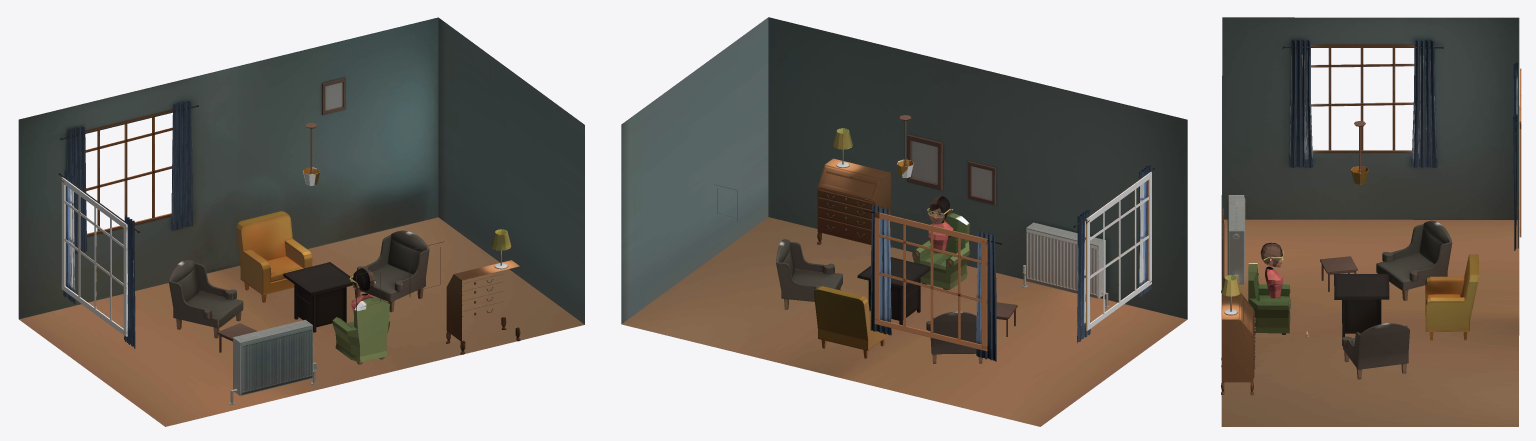
The model's file is user-joined.glb.
3 renders of one model, left to right at view 1: azimuth 30°, elevation 25°; view 2: azimuth 150°, elevation 25°; view 3: azimuth 270°, elevation 25°, orthographic.
Parts seen in each view (by area): view 1: murs, sol, Radiator, armchair, petit fauteuil bas, petit fauteuil bas.001, Table haute, window1, fauteuil vert.001, rideaux_d.001, window2, commode (+5 smaller); view 2: murs, sol, commode, window2, Radiator, armchair, window1, petit fauteuil bas.001, fauteuil vert.001, rideaux_g.001, rideaux_d.001, Table haute (+6 smaller); view 3: sol, murs, petit fauteuil bas, armchair, rideaux_d, commode, rideaux_g, Table haute, petit fauteuil bas.001, window1, fauteuil vert.001, Radiator (+6 smaller).
Boxes of the visible parts, x1=… form: murs: x1=18, y1=17, x2=584, y2=324; sol: x1=19, y1=217, x2=584, y2=426; Radiator: x1=229, y1=319, x2=316, y2=404; armchair: x1=236, y1=211, x2=312, y2=302; petit fauteuil bas: x1=169, y1=259, x2=243, y2=338; petit fauteuil bas.001: x1=353, y1=230, x2=429, y2=312; Table haute: x1=283, y1=262, x2=352, y2=332; window1: x1=61, y1=177, x2=127, y2=336; fauteuil vert.001: x1=332, y1=297, x2=389, y2=364; rideaux_d.001: x1=171, y1=101, x2=192, y2=230; window2: x1=85, y1=109, x2=172, y2=236; commode: x1=446, y1=260, x2=520, y2=354; murs: x1=621, y1=17, x2=1187, y2=323; sol: x1=621, y1=217, x2=1187, y2=426; commode: x1=817, y1=158, x2=891, y2=247; window2: x1=874, y1=211, x2=987, y2=351; Radiator: x1=1022, y1=222, x2=1109, y2=307; armchair: x1=814, y1=286, x2=888, y2=358; window1: x1=1086, y1=172, x2=1151, y2=330; petit fauteuil bas.001: x1=776, y1=239, x2=842, y2=309; fauteuil vert.001: x1=912, y1=213, x2=969, y2=290; rideaux_g.001: x1=976, y1=230, x2=996, y2=361; rideaux_d.001: x1=870, y1=205, x2=891, y2=335; Table haute: x1=857, y1=257, x2=930, y2=325; sol: x1=1221, y1=219, x2=1519, y2=426; murs: x1=1221, y1=17, x2=1519, y2=396; petit fauteuil bas: x1=1376, y1=220, x2=1452, y2=300; armchair: x1=1425, y1=254, x2=1478, y2=340; rideaux_d: x1=1411, y1=40, x2=1437, y2=168; commode: x1=1221, y1=293, x2=1255, y2=395; rideaux_g: x1=1289, y1=39, x2=1312, y2=167; Table haute: x1=1334, y1=274, x2=1389, y2=337; petit fauteuil bas.001: x1=1342, y1=323, x2=1409, y2=379; window1: x1=1311, y1=44, x2=1414, y2=152; fauteuil vert.001: x1=1248, y1=263, x2=1290, y2=334; Radiator: x1=1227, y1=195, x2=1245, y2=284.
Size of the model in its own units: 7.25 by 3.3 by 4.4.
31 materials, 23 textured.
